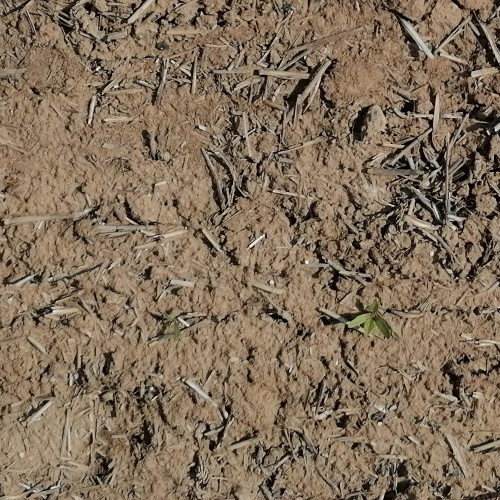beet: (349, 300, 394, 341), (165, 310, 181, 337)
